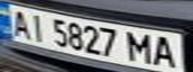2: (81, 22, 103, 55)
5: (45, 16, 69, 48)
7: (96, 25, 124, 58)
8: (63, 20, 84, 52)
A: (148, 34, 181, 69), (3, 7, 33, 39)
I: (24, 11, 51, 43)
M: (124, 29, 157, 64)
